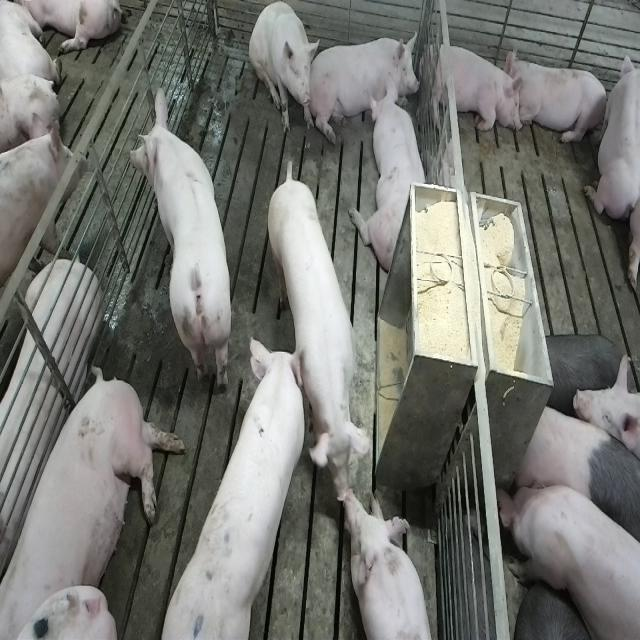Lateral_lying: (4, 368, 187, 640), (0, 258, 103, 579)
Sitting: (248, 2, 316, 137)
Standing: (153, 339, 307, 640), (127, 86, 234, 402), (265, 156, 368, 484), (500, 475, 638, 640), (0, 115, 86, 365), (514, 401, 638, 561)
Sternal_lying: (356, 85, 431, 274), (347, 487, 437, 638), (313, 27, 421, 140), (509, 52, 610, 150), (426, 39, 524, 138), (584, 42, 637, 224)
